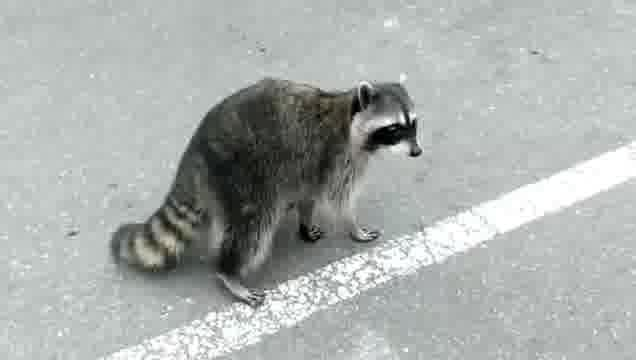raccoon: (108, 76, 425, 310)
